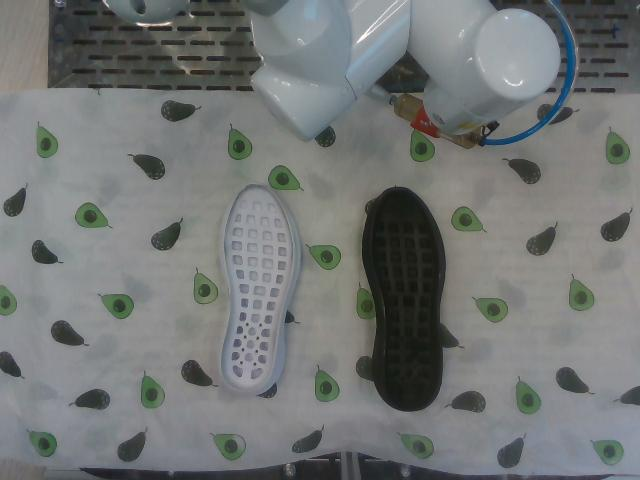shoes: (372, 188, 440, 409), (221, 184, 293, 391)
